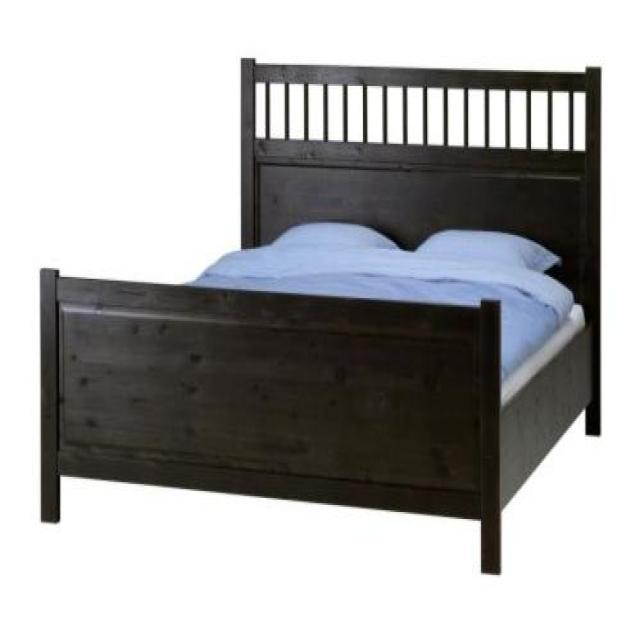bed: (39, 54, 602, 574)
